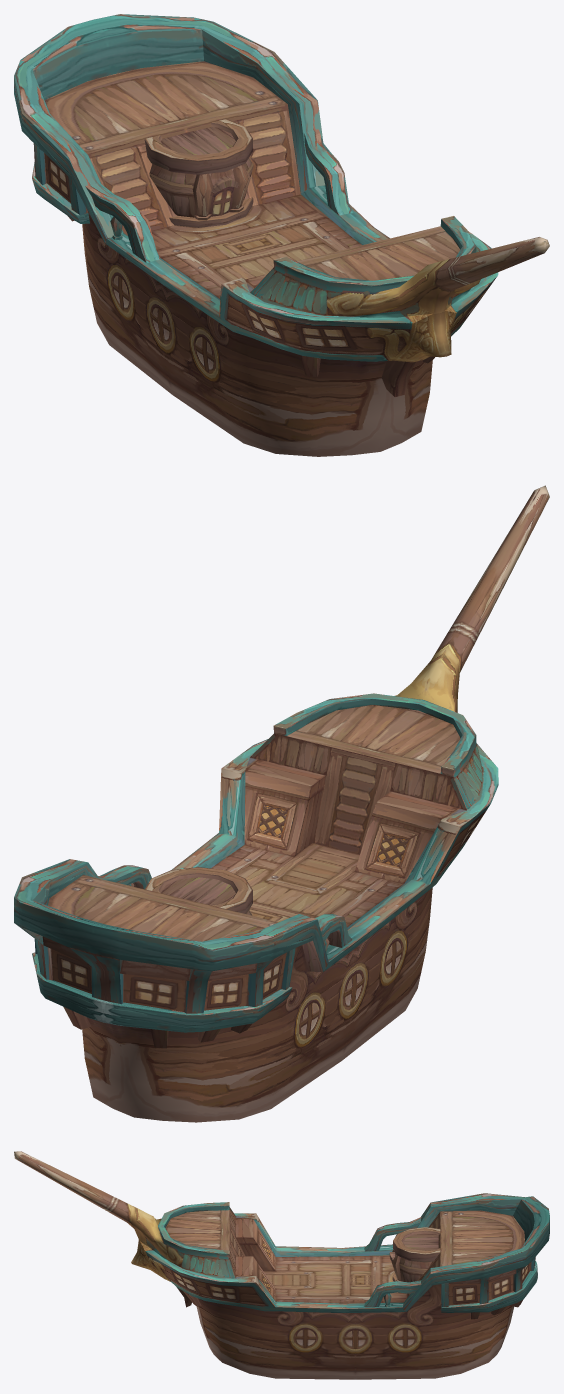
File: Map_05_boat05.FBX
3 views of the same model, one above another, from view 1: azimuth 30°, elevation 25°; view 2: azimuth 150°, elevation 25°; view 3: azimuth 270°, elevation 25° (orthographic). The views are drawn at different scales.
Visible parts, largest first — view 1: Map_05_boat05; view 2: Map_05_boat05; view 3: Map_05_boat05.
Boxes of the visible parts, x1,y1,x2,y2 form: Map_05_boat05: (14, 14, 549, 456); Map_05_boat05: (14, 485, 549, 1122); Map_05_boat05: (14, 1151, 549, 1379).
Bounding box in the file's own units: 598 × 780 × 1858.
